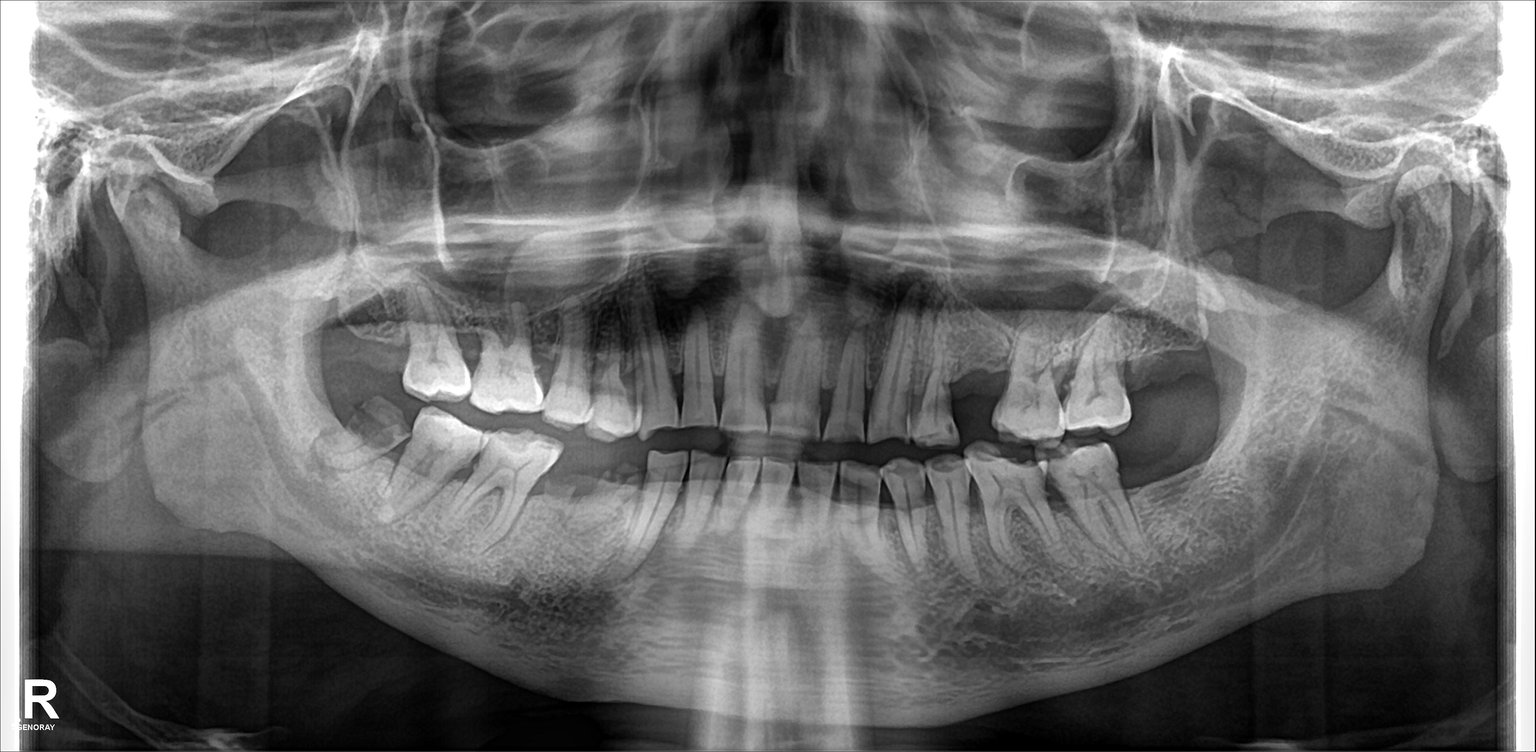Impacted Third Molar: (320, 402, 413, 454)
Missing Tooth: (1121, 441, 1178, 535), (1156, 322, 1207, 426), (594, 449, 641, 544), (372, 290, 408, 393), (953, 342, 995, 423), (339, 285, 372, 386), (555, 456, 591, 538), (1134, 329, 1161, 425)
